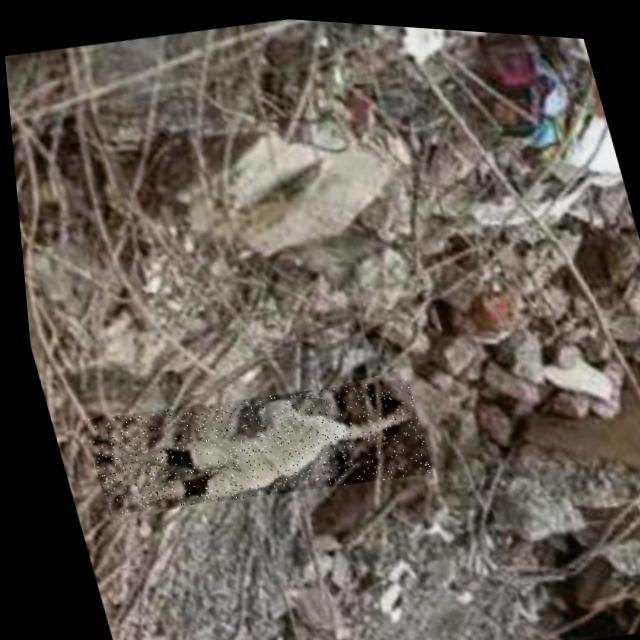Person in Rubble: (69, 355, 429, 533)
